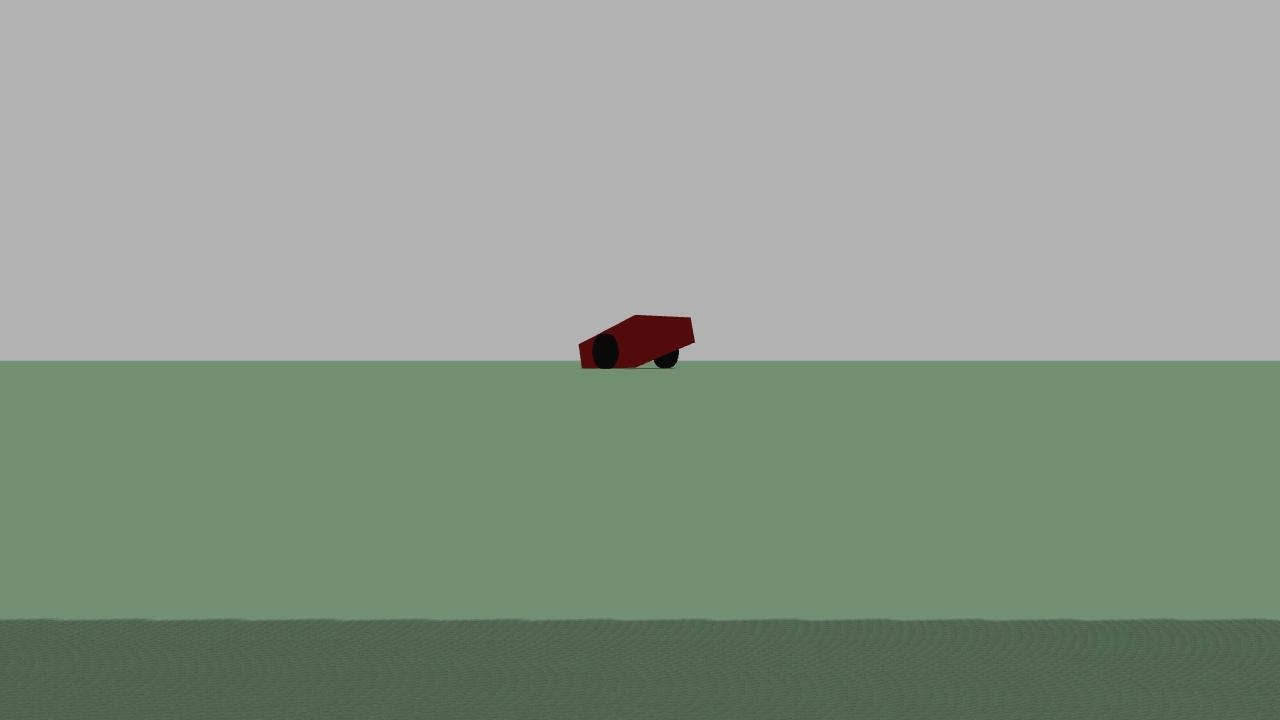ground_vehicle: (572, 307, 700, 378)
